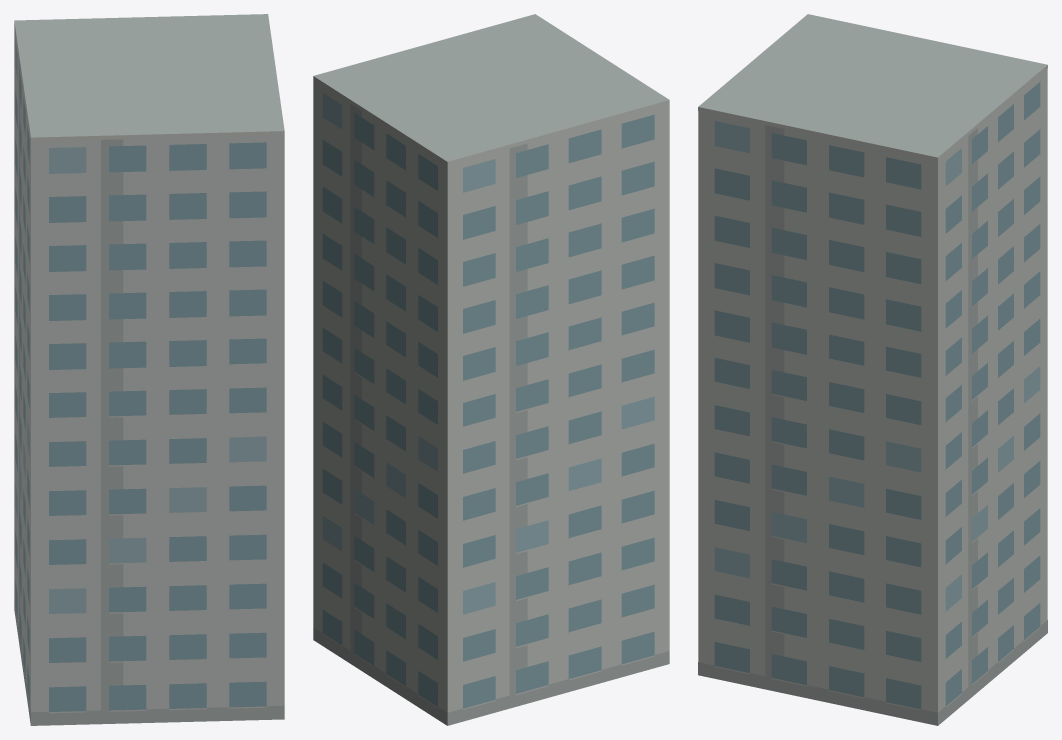
File: residential-a8d816c7-4b75-4827-85f6-0180afa6728c.glb
The picture shows the model from 3 angles, left to right: view 1: azimuth 30°, elevation 25°; view 2: azimuth 150°, elevation 25°; view 3: azimuth 270°, elevation 25°; orthographic projection. The views are drawn at different scales.
Parts seen in each view (by area): view 1: residential-a8d816c7-4b75-4827-85f6-0180afa6728c.tmp; view 2: residential-a8d816c7-4b75-4827-85f6-0180afa6728c.tmp; view 3: residential-a8d816c7-4b75-4827-85f6-0180afa6728c.tmp.
Boxes of the visible parts, x1,y1,x2,y2 form: residential-a8d816c7-4b75-4827-85f6-0180afa6728c.tmp: (14,14,284,725); residential-a8d816c7-4b75-4827-85f6-0180afa6728c.tmp: (313,14,669,725); residential-a8d816c7-4b75-4827-85f6-0180afa6728c.tmp: (698,14,1047,725).
Size of the model in its own units: 18.97 by 35 by 19.53.
